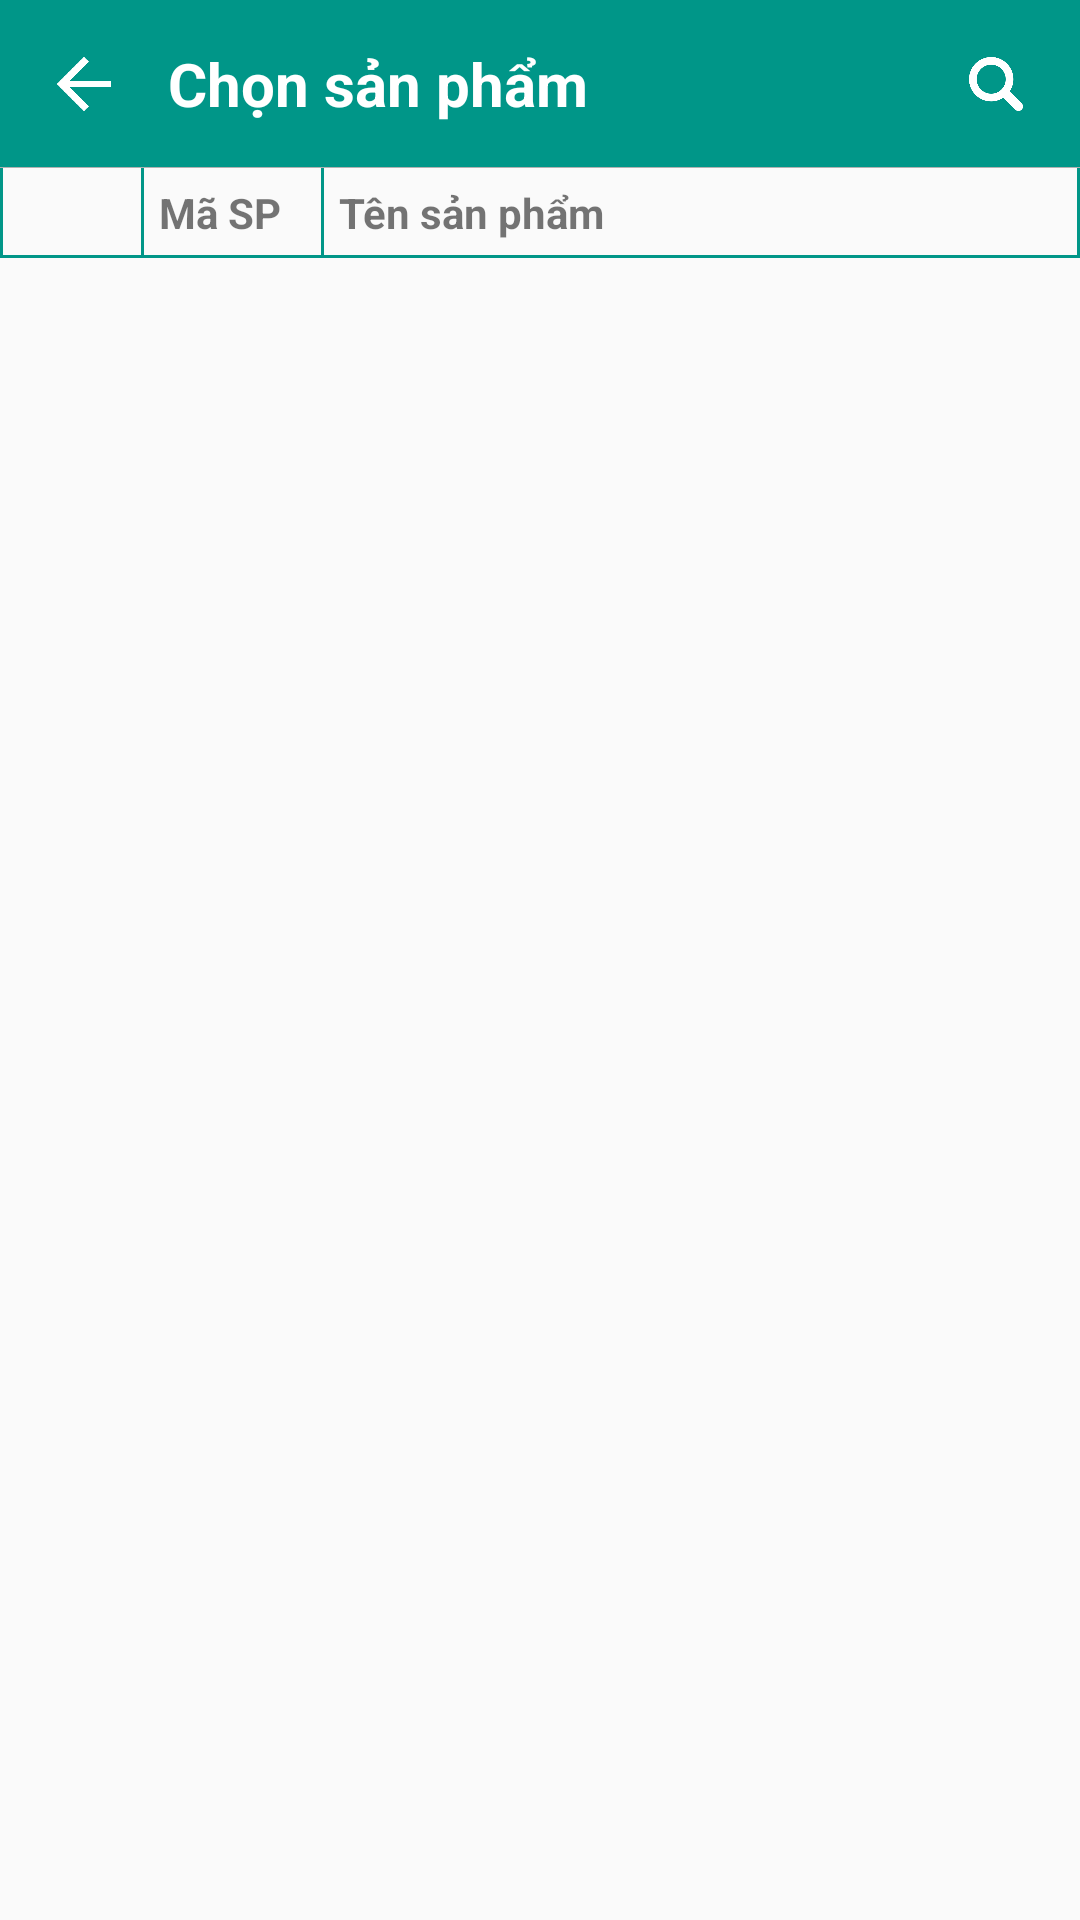

Named icons in this screenshot (1080×1920) and their centers, point (x, y):
back: point (84, 84)
search: point (996, 84)
